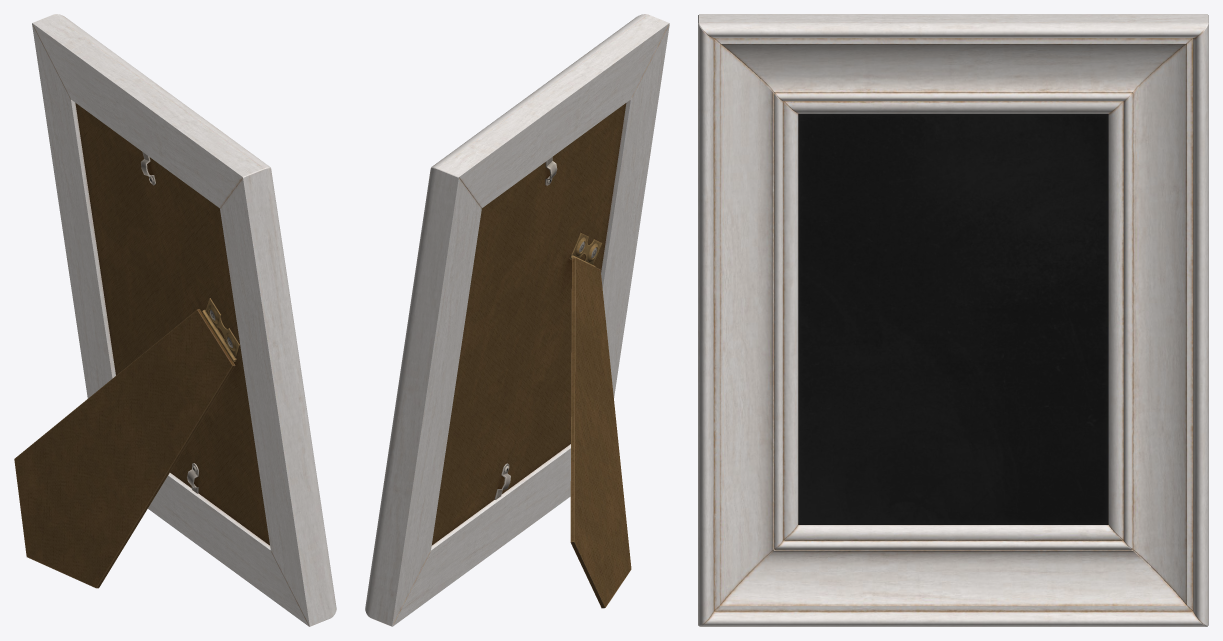
File: standing_picture_frame_02.gltf
The picture shows the model from 3 angles, left to right: view 1: azimuth 30°, elevation 25°; view 2: azimuth 150°, elevation 25°; view 3: azimuth 270°, elevation 25°; orthographic projection. The views are drawn at different scales.
Visible parts, largest first — view 1: standing_picture_frame_02; view 2: standing_picture_frame_02; view 3: standing_picture_frame_02.
Part boxes in pixels (x1,y1,x2,y2): standing_picture_frame_02: (14,14,336,626); standing_picture_frame_02: (365,14,669,626); standing_picture_frame_02: (698,14,1208,626).
Bounding box in the file's own units: 0.1023 × 0.2664 × 0.2169.
Materials: 3 (3 with a texture image).
